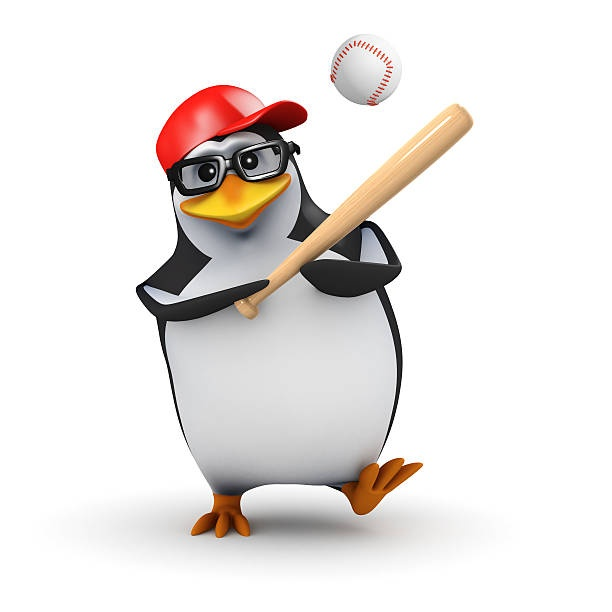bita: (228, 109, 473, 312)
